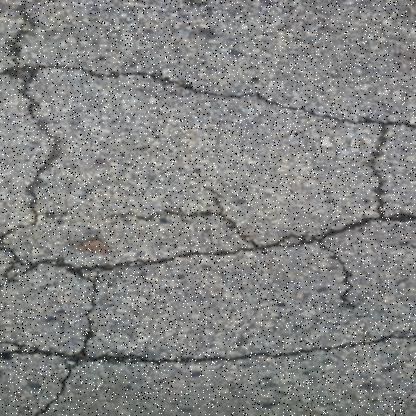Cracks: (0, 60, 416, 306), (0, 331, 416, 416), (0, 5, 72, 279), (15, 252, 113, 416)
